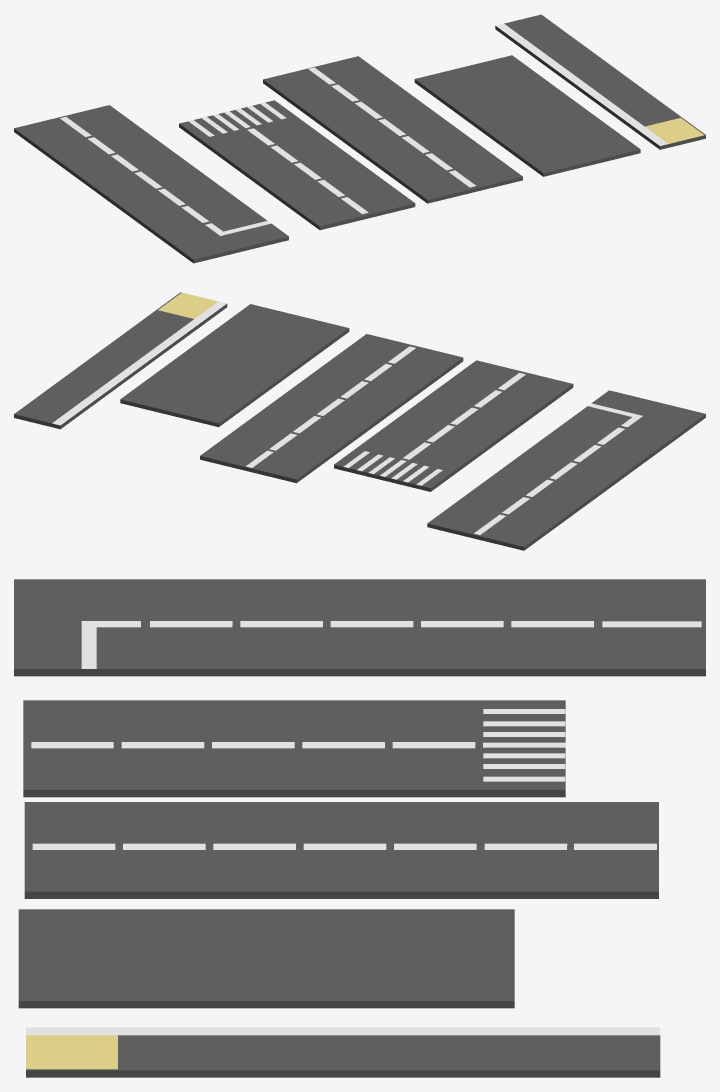
Rendered from street_lv3.fbx.
3 views of the same model, one above another, from view 1: azimuth 30°, elevation 25°; view 2: azimuth 150°, elevation 25°; view 3: azimuth 270°, elevation 25° (orthographic). The views are drawn at different scales.
Visible parts, largest first — view 1: street_turn_lv3, street_straight_lv3, street_pass_lv3, street_empty_lv3, bicycleroad_lv3; view 2: street_turn_lv3, street_straight_lv3, street_pass_lv3, street_empty_lv3, bicycleroad_lv3; view 3: street_turn_lv3, street_straight_lv3, street_pass_lv3, street_empty_lv3, bicycleroad_lv3.
Boxes of the visible parts, box(x1,y1,x2,y2) form: street_turn_lv3: box(14, 105, 288, 263); street_straight_lv3: box(263, 56, 522, 203); street_pass_lv3: box(179, 100, 415, 230); street_empty_lv3: box(414, 55, 640, 176); bicycleroad_lv3: box(495, 14, 705, 149); street_turn_lv3: box(427, 390, 705, 550); street_straight_lv3: box(200, 334, 463, 483); street_pass_lv3: box(334, 360, 573, 491); street_empty_lv3: box(120, 304, 349, 427); bicycleroad_lv3: box(14, 292, 227, 429); street_turn_lv3: box(14, 579, 705, 676); street_straight_lv3: box(24, 802, 658, 898); street_pass_lv3: box(23, 700, 565, 797); street_empty_lv3: box(18, 909, 514, 1008); bicycleroad_lv3: box(26, 1027, 660, 1077).
Size of the model in its own units: 7400 by 96.78 by 4464.
